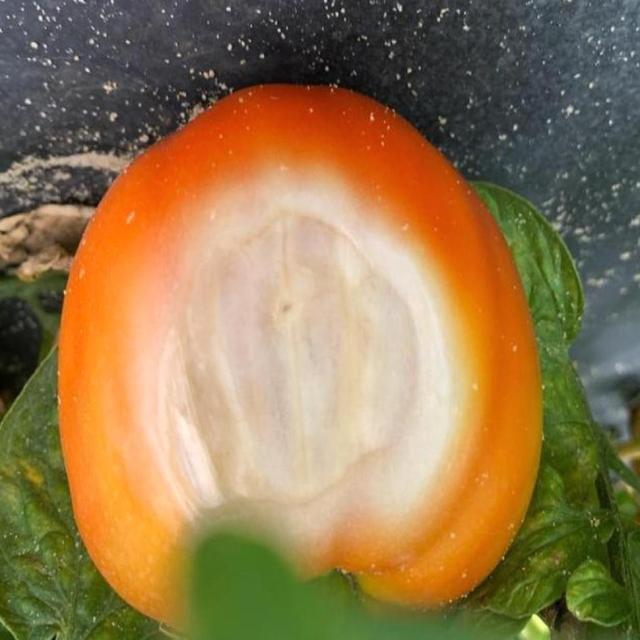Sunscald Fruit: (83, 123, 305, 365)
